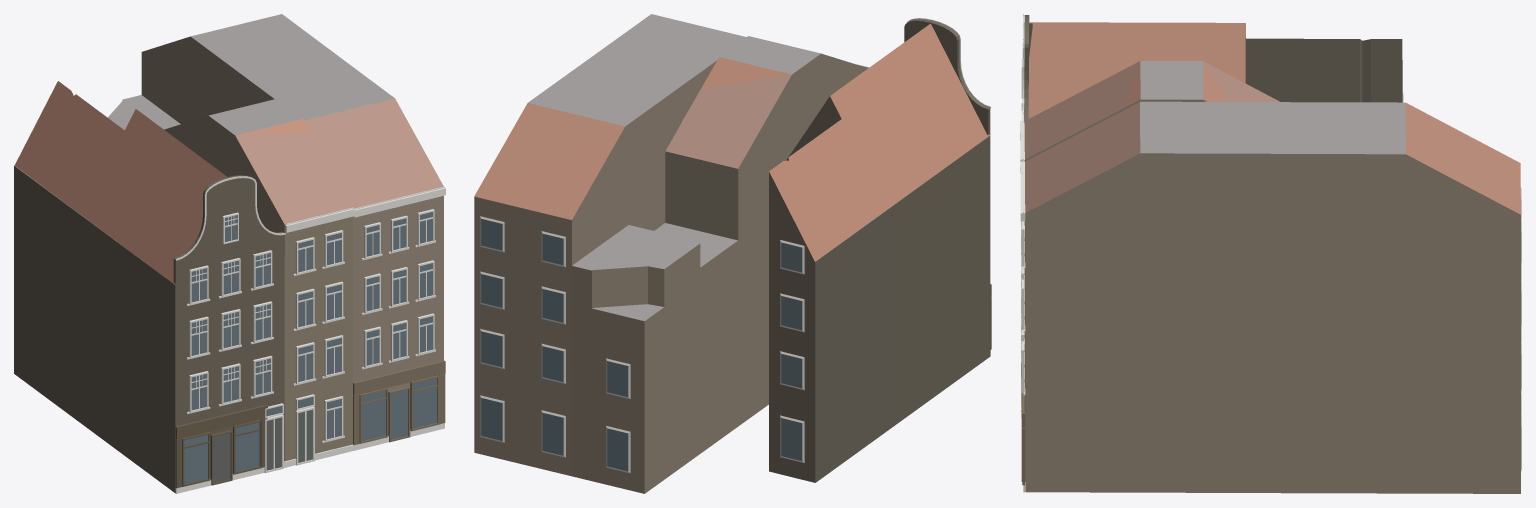
File: chunk-face-bloemgracht-138-300-r1.glb
The picture shows the model from 3 angles, left to right: view 1: azimuth 30°, elevation 25°; view 2: azimuth 150°, elevation 25°; view 3: azimuth 270°, elevation 25°; orthographic projection. The views are drawn at different scales.
Visible parts, largest first — view 1: face-bloemgracht-138-300-r1; view 2: face-bloemgracht-138-300-r1; view 3: face-bloemgracht-138-300-r1.
Part boxes in pixels (box(x1,y1,x2,y2)): face-bloemgracht-138-300-r1: box(14, 14, 445, 493); face-bloemgracht-138-300-r1: box(474, 14, 991, 493); face-bloemgracht-138-300-r1: box(1020, 14, 1521, 493).
Size of the model in its own units: 14.31 by 15.24 by 19.77.
